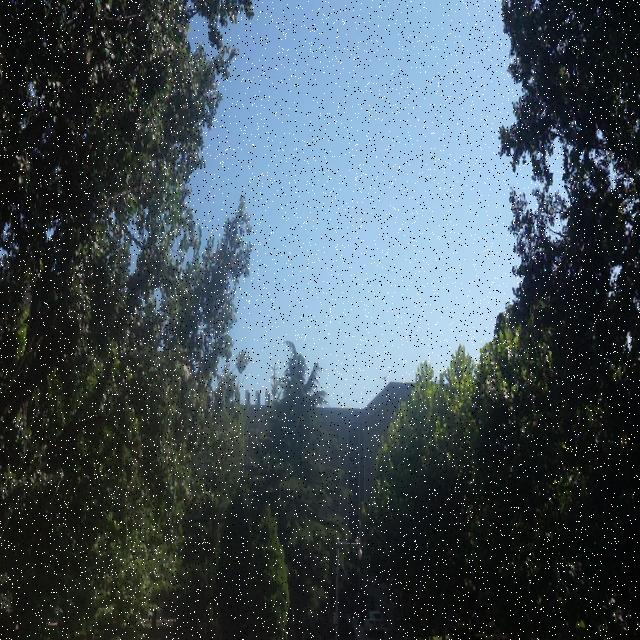UAV: (381, 375, 388, 382)
